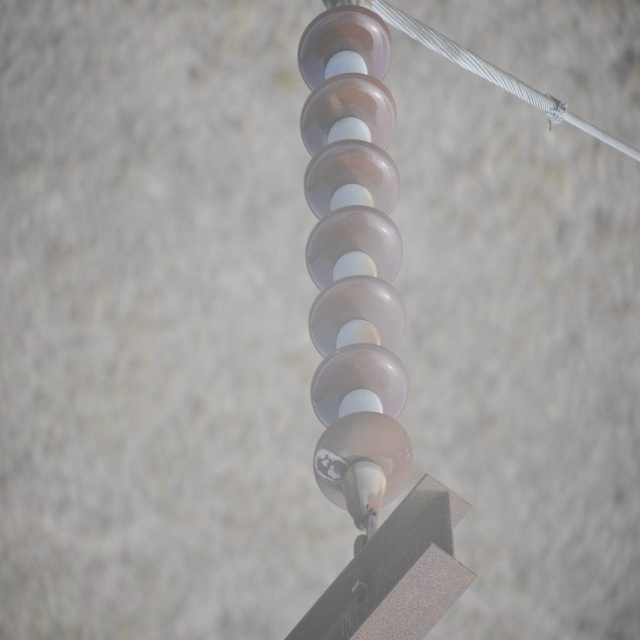insulator: (296, 6, 412, 514)
